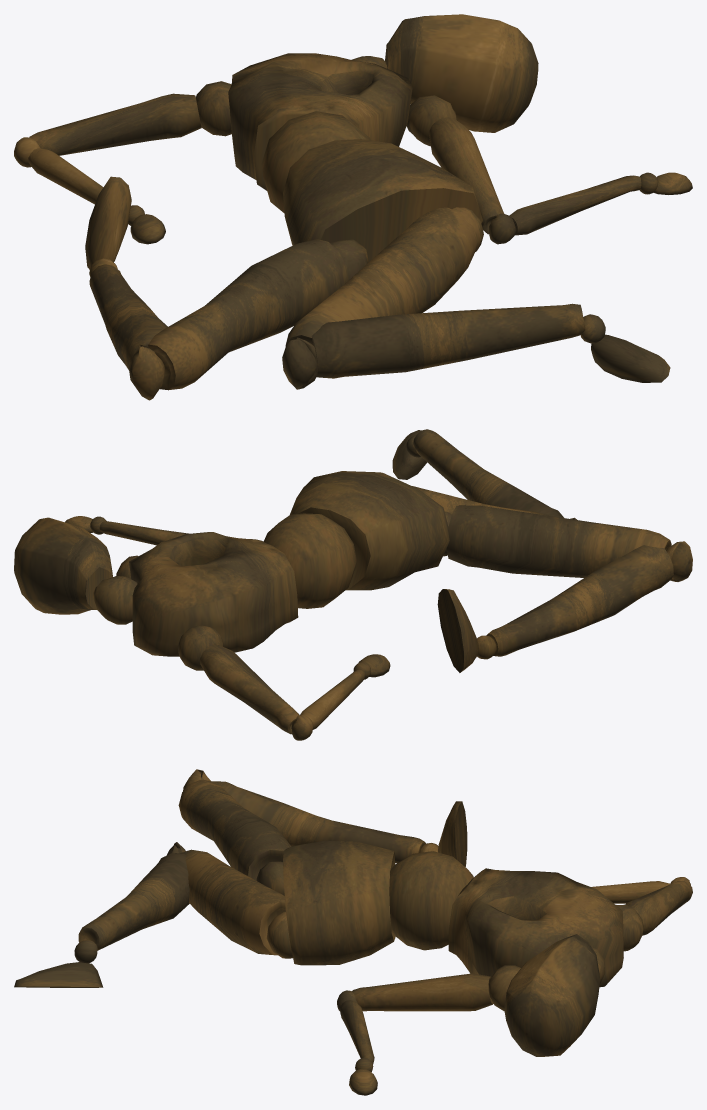
File: maniqui_pose2.fbx
3 views of the same model, one above another, from view 1: azimuth 30°, elevation 25°; view 2: azimuth 150°, elevation 25°; view 3: azimuth 270°, elevation 25° (orthographic). The views are drawn at different scales.
Visible parts, largest first — view 1: dummy_obj.003; view 2: dummy_obj.003; view 3: dummy_obj.003.
Part boxes in pixels (<box>): dummy_obj.003: <box>14,14,692,400</box>; dummy_obj.003: <box>14,429,692,740</box>; dummy_obj.003: <box>14,769,692,1095</box>.
Size of the model in its own units: 106 by 19.63 by 112.
